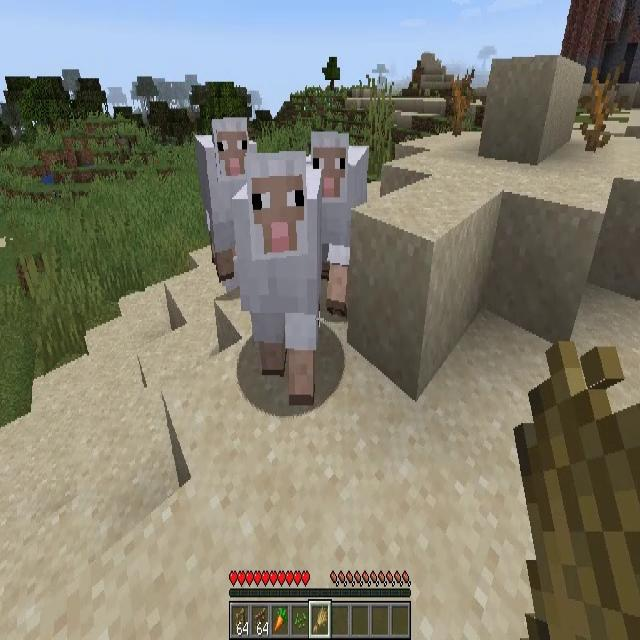sheep: (234, 154, 320, 407), (308, 134, 368, 316), (193, 119, 256, 287)
